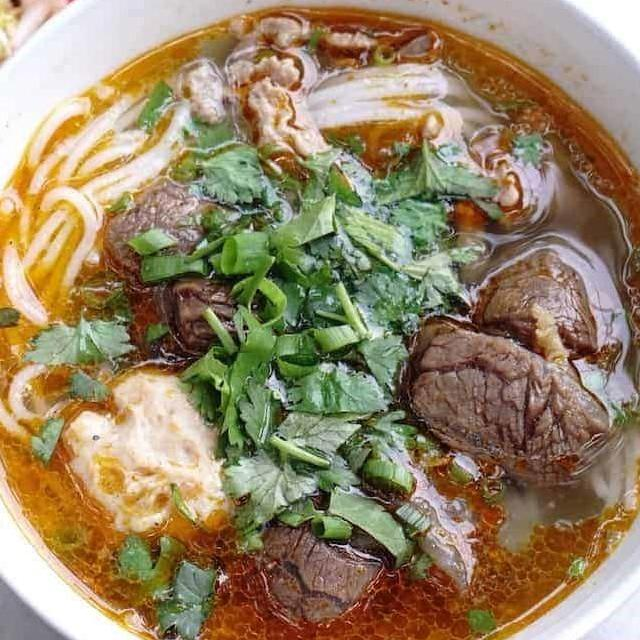bun: (441, 183, 640, 577), (127, 478, 350, 590)
bun bo: (0, 0, 640, 640)
thit bo: (8, 144, 248, 332), (364, 270, 544, 466), (0, 265, 177, 412), (244, 8, 406, 132)
